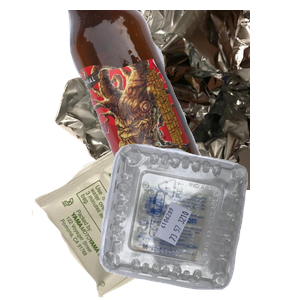glass: (65, 10, 300, 190)
metal: (52, 10, 292, 190)
plastic: (97, 141, 300, 300)
trash: (29, 124, 238, 300)
